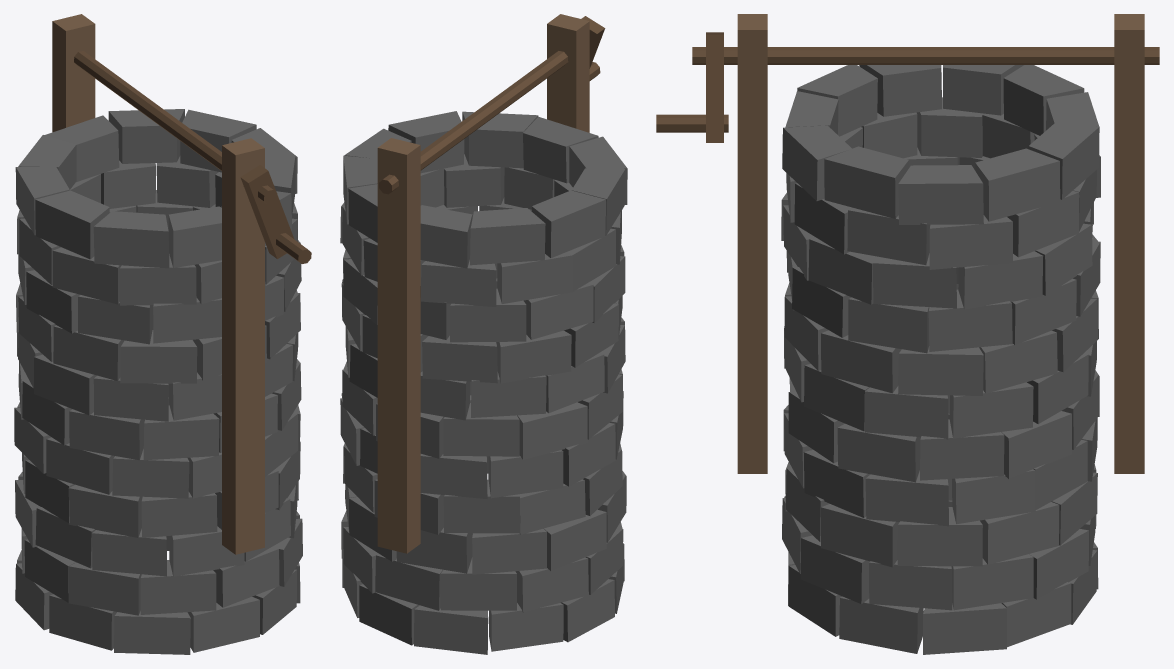
3 views of the same model, side by side, from view 1: azimuth 30°, elevation 25°; view 2: azimuth 150°, elevation 25°; view 3: azimuth 270°, elevation 25° (orthographic). The views are drawn at different scales.
Parts seen in each view (by area): view 1: jin.001, 立方体.001, 立方体.002; view 2: jin.001, 立方体.001, 立方体.002; view 3: jin.001, 立方体.001, 立方体.002.
Part boxes in pixels (bbox=[...]): jin.001: bbox=[14, 109, 302, 654]; 立方体.001: bbox=[52, 14, 264, 554]; 立方体.002: bbox=[74, 51, 311, 263]; jin.001: bbox=[340, 111, 627, 654]; 立方体.001: bbox=[377, 14, 589, 553]; 立方体.002: bbox=[379, 16, 605, 194]; jin.001: bbox=[781, 65, 1100, 654]; 立方体.001: bbox=[737, 14, 1144, 473]; 立方体.002: bbox=[656, 32, 1159, 142].
Bounding box in the file's own units: 85.04 × 166 × 134.
